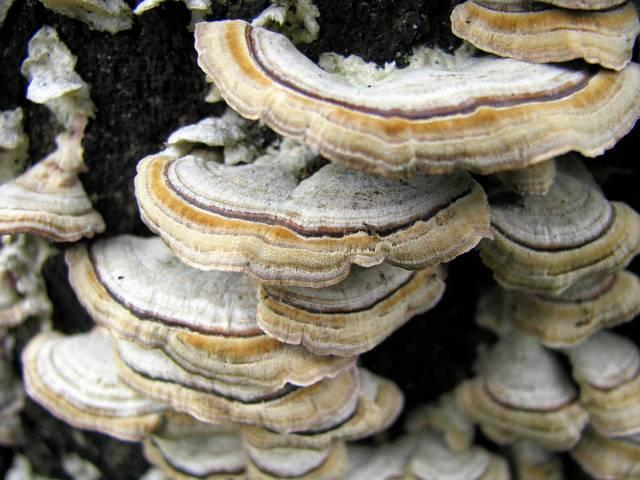poisonous_mushroom: (1, 0, 639, 479), (191, 13, 639, 178)
